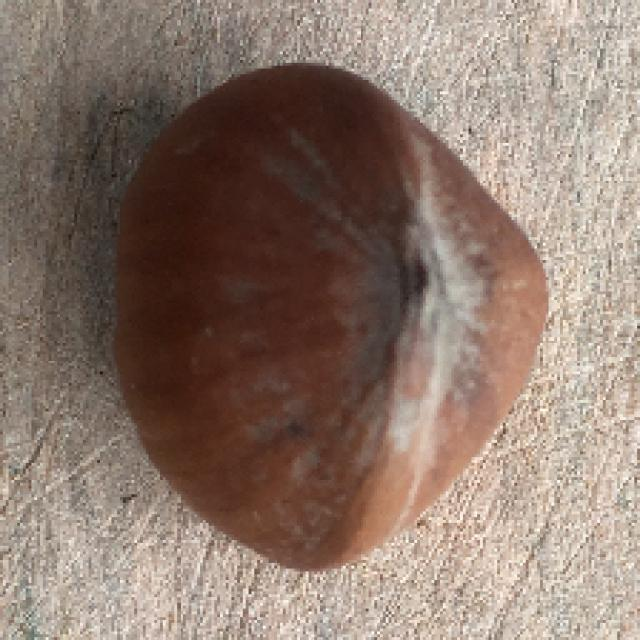DamagedHazelnut: (110, 65, 549, 565)
